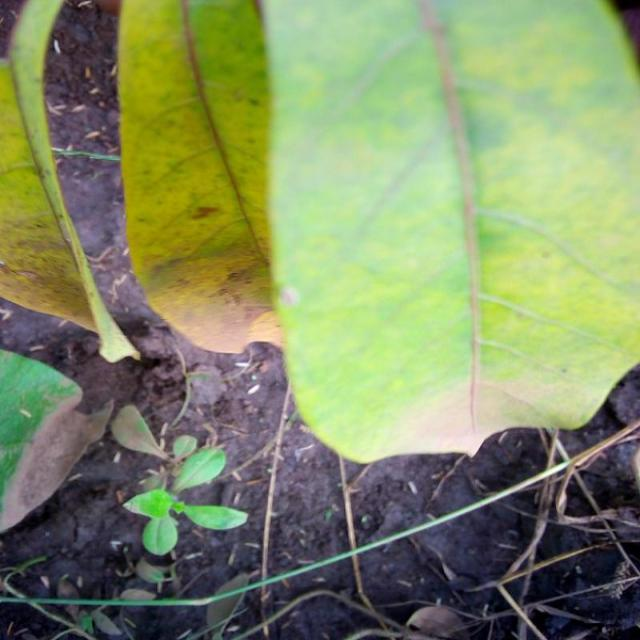cassava leaf: (115, 0, 639, 464), (115, 0, 282, 355), (0, 0, 141, 364), (0, 344, 114, 536)
